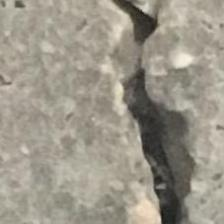Crack: (99, 0, 224, 224)
